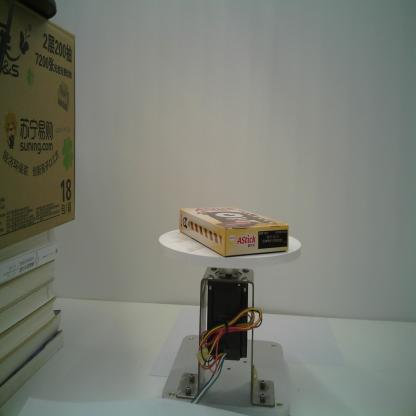Dessert: (179, 206, 289, 257)
